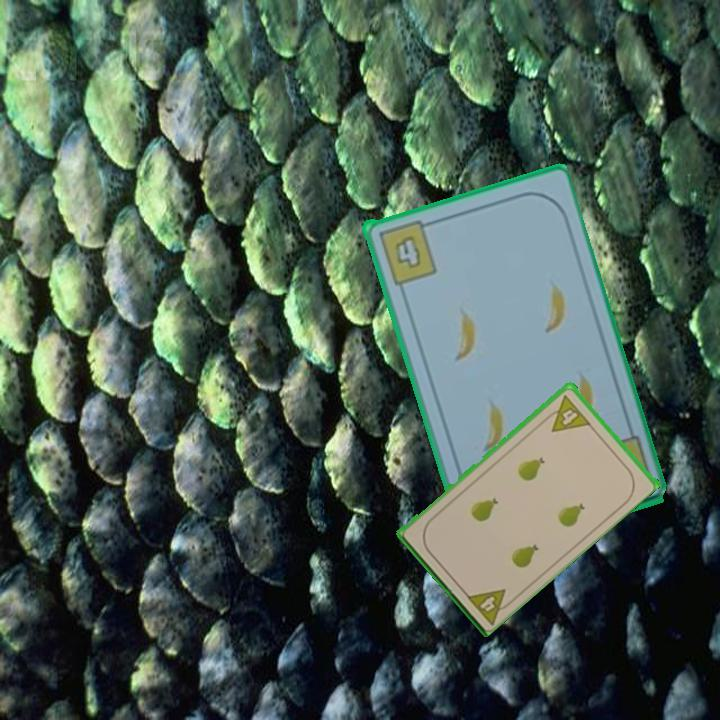4b: (374, 216, 439, 287)
4p: (462, 584, 517, 627), (540, 391, 593, 435)
